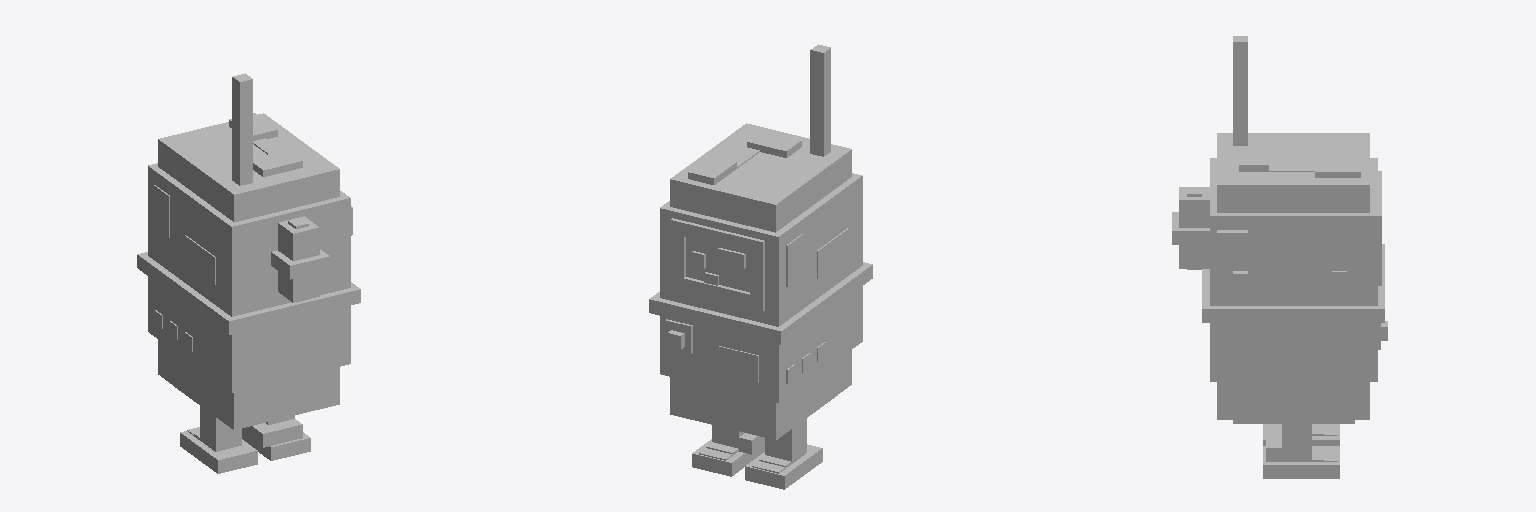
Rendered from gonkdroid.obj.
3 renders of one model, left to right at view 1: azimuth 30°, elevation 25°; view 2: azimuth 150°, elevation 25°; view 3: azimuth 270°, elevation 25°, orthographic.
Parts seen in each view (by area): view 1: cube; view 2: cube; view 3: cube.
Part boxes in pixels (x1,y1,x2,y2): cube: (137, 73, 360, 473); cube: (649, 44, 872, 489); cube: (1172, 36, 1387, 478).
Bounding box in the file's own units: 0.625 × 1.81 × 0.8875.